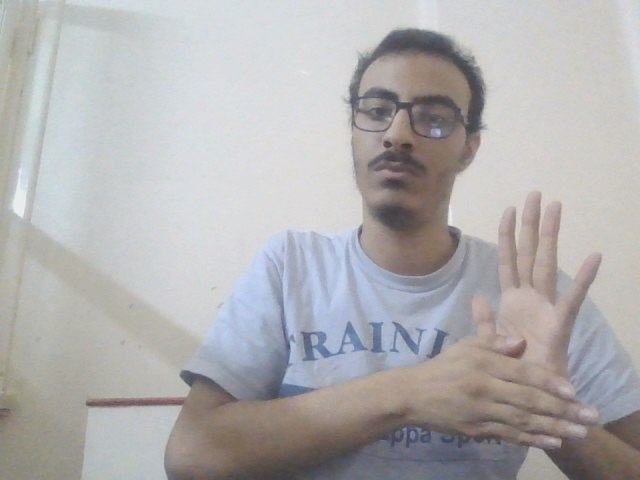Movie: (421, 186, 610, 466)
